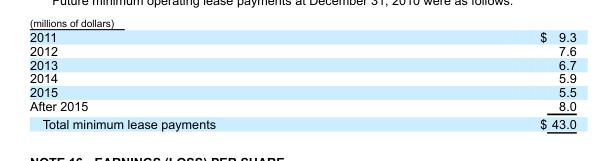table: (29, 29, 575, 130)
table column: (29, 29, 377, 130), (377, 29, 575, 130)
table row: (29, 98, 575, 114), (29, 114, 575, 130), (29, 29, 575, 43), (29, 43, 575, 57), (29, 57, 575, 71), (29, 71, 575, 85), (29, 85, 575, 98)
